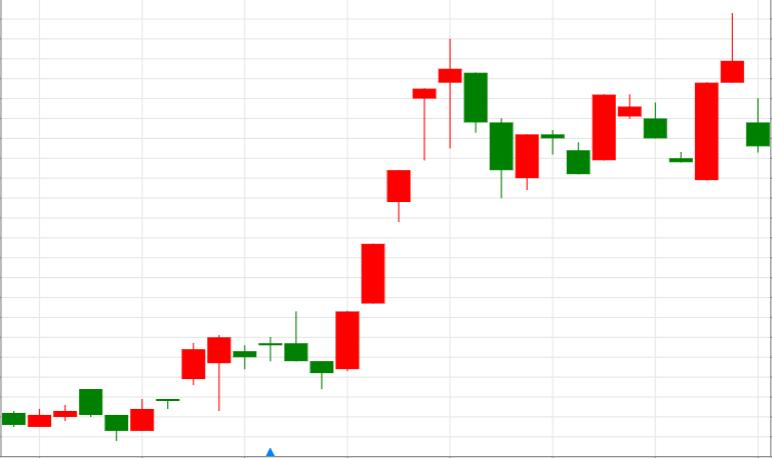evening_star_fall: (336, 39, 487, 371)
